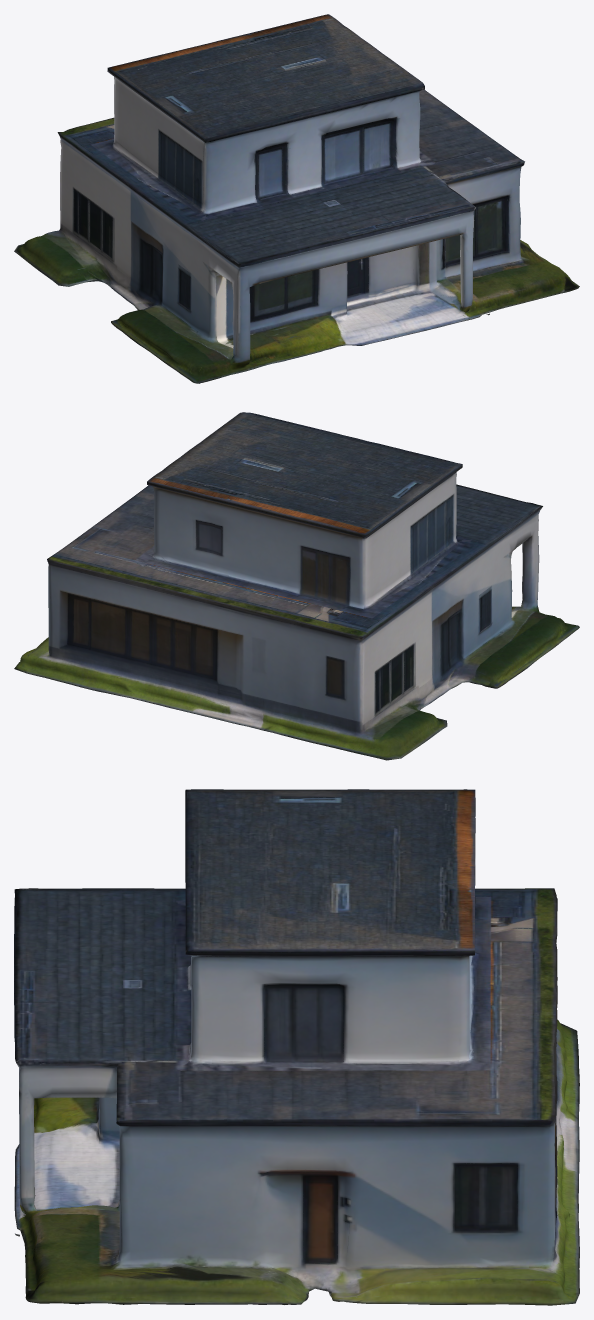
The model's file is modern_single_family__0516165710.fbx.
3 views of the same model, one above another, from view 1: azimuth 30°, elevation 25°; view 2: azimuth 150°, elevation 25°; view 3: azimuth 270°, elevation 25° (orthographic). The views are drawn at different scales.
Visible parts, largest first — view 1: Mesh_0; view 2: Mesh_0; view 3: Mesh_0.
Boxes of the visible parts, x1,y1,x2,y2 form: Mesh_0: [14, 14, 579, 383]; Mesh_0: [14, 412, 579, 760]; Mesh_0: [14, 789, 579, 1305].
Bounding box in the file's own units: 199 × 92.97 × 168.
1 material, 1 textured.
